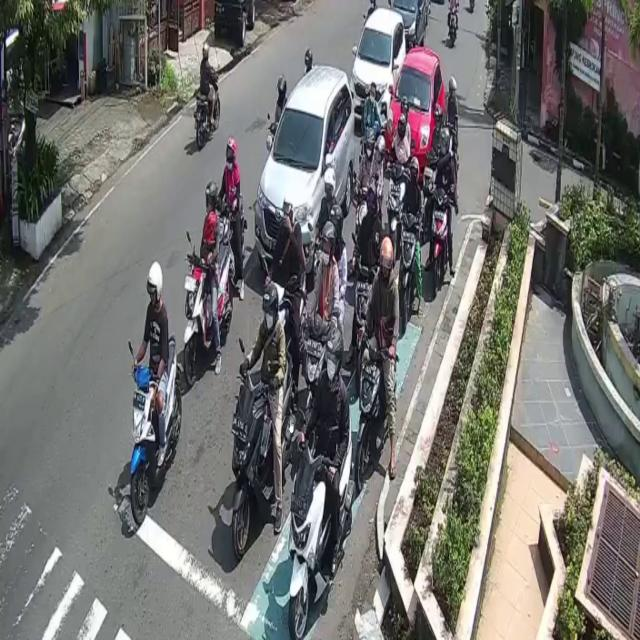bus: (289, 411, 354, 640), (233, 360, 295, 559), (130, 332, 182, 527), (181, 240, 231, 385), (359, 343, 399, 489), (397, 212, 418, 333), (195, 64, 222, 149), (430, 191, 450, 300)
motorcycle: (255, 63, 356, 273), (386, 46, 446, 180), (358, 1, 412, 118), (399, 0, 430, 52)
